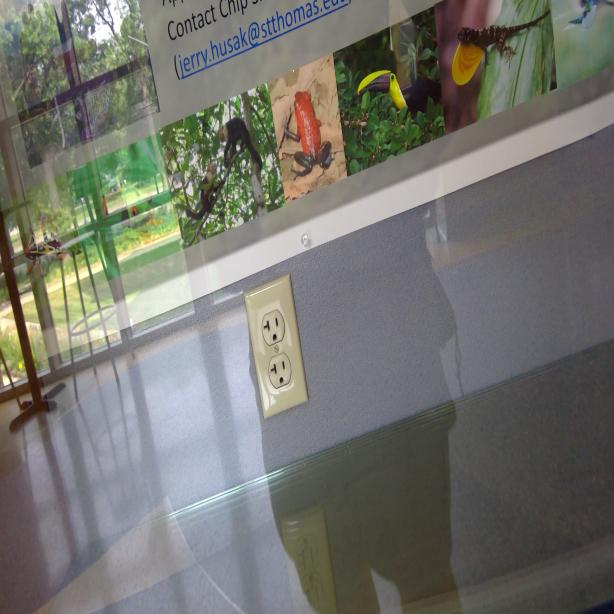typeb: (267, 352, 291, 386), (262, 310, 284, 346)
